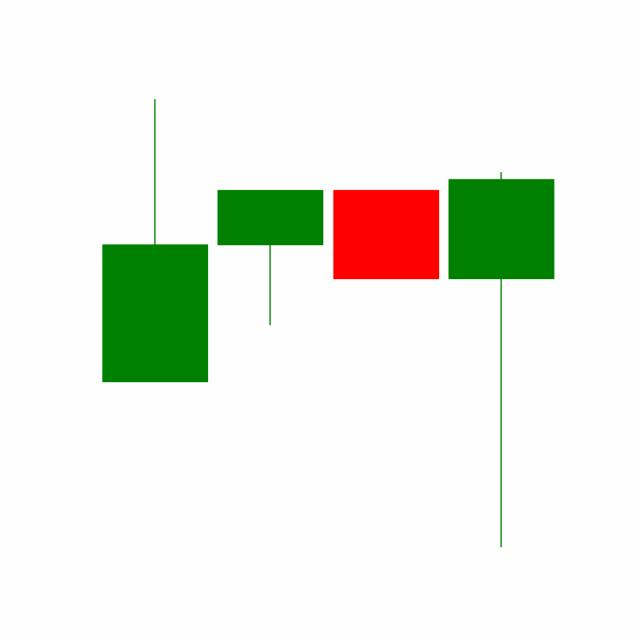Hammer: (443, 168, 559, 552)
